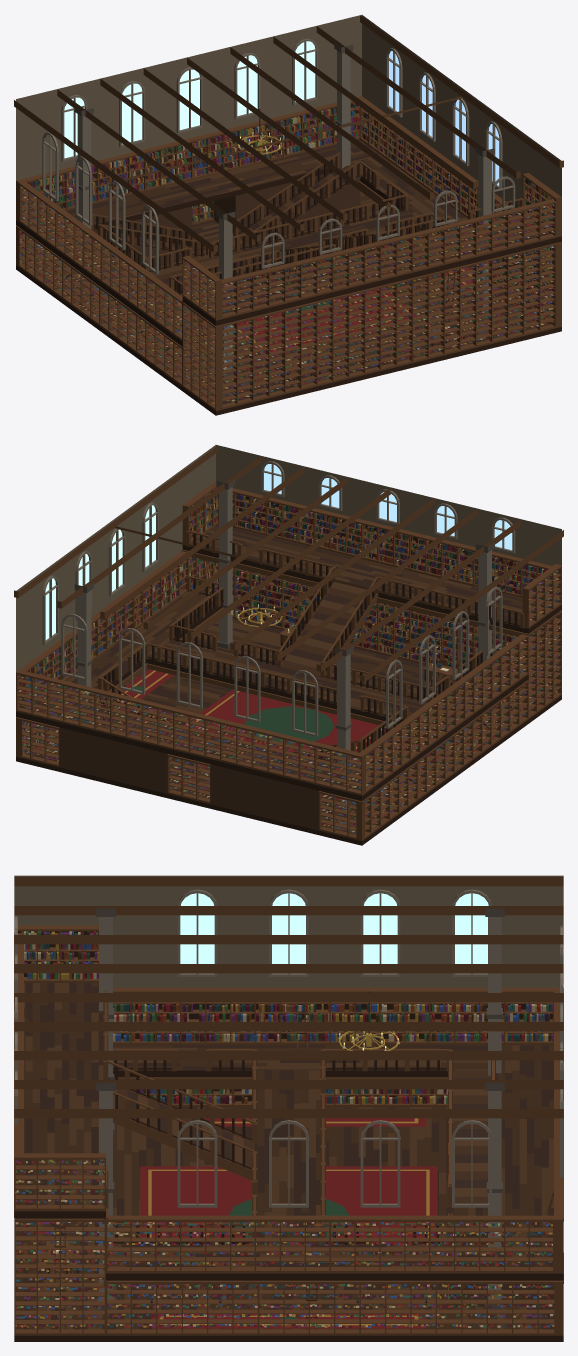
File: library.glb
The picture shows the model from 3 angles, top to bottom: view 1: azimuth 30°, elevation 25°; view 2: azimuth 150°, elevation 25°; view 3: azimuth 270°, elevation 25°; orthographic projection. The views are drawn at different scales.
Parts seen in each view (by area): view 1: Library, Library.Ceiling; view 2: Library, Library.Ceiling; view 3: Library, Library.Ceiling.
Part boxes in pixels (x1,y1,x2,y2): Library: (16, 15, 561, 415); Library.Ceiling: (14, 15, 563, 252); Library: (16, 445, 561, 845); Library.Ceiling: (14, 445, 563, 682); Library: (14, 875, 563, 1341); Library.Ceiling: (14, 877, 563, 1119).
Size of the model in its own units: 24.3 by 11.3 by 24.04.
